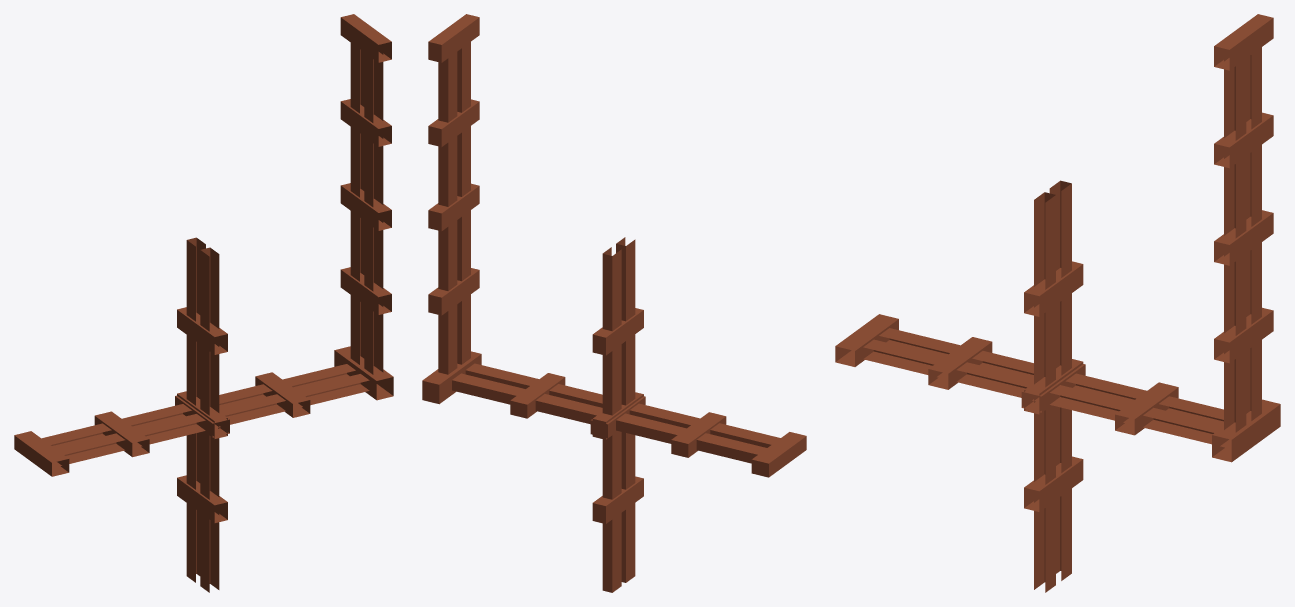
File: Fence 02.FBX
The picture shows the model from 3 angles, left to right: view 1: azimuth 30°, elevation 25°; view 2: azimuth 150°, elevation 25°; view 3: azimuth 330°, elevation 25°; orthographic projection. The views are drawn at different scales.
Visible parts, largest first — view 1: Fence 02 Corner, Fence 02 Center, Fence 02 Solo; view 2: Fence 02 Corner, Fence 02 Center; view 3: Fence 02 Corner, Fence 02 Center.
Boxes of the visible parts, x1,y1,x2,y2 form: Fence 02 Corner: (14, 14, 393, 476); Fence 02 Center: (177, 237, 227, 592); Fence 02 Solo: (177, 391, 227, 438); Fence 02 Corner: (422, 14, 806, 477); Fence 02 Center: (592, 237, 643, 592); Fence 02 Corner: (835, 14, 1280, 462); Fence 02 Center: (1024, 180, 1083, 592).
Bounding box in the file's own units: 532 × 763 × 114.
1 material, 1 textured.
